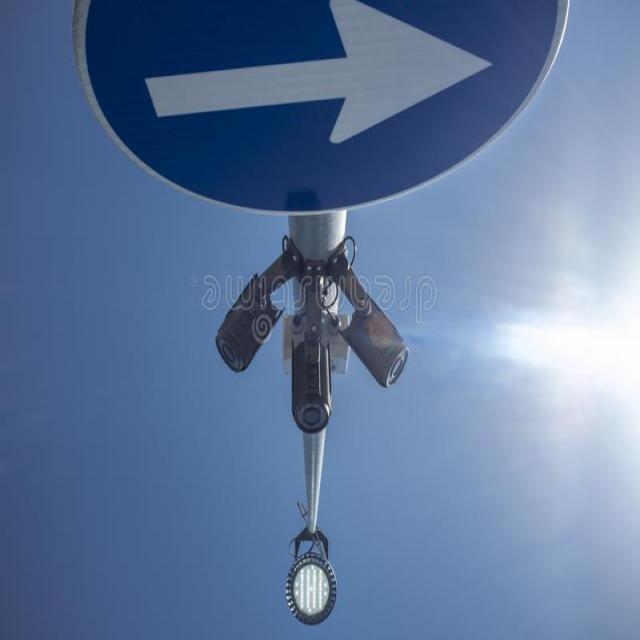Turn Right: (75, 1, 586, 224)
